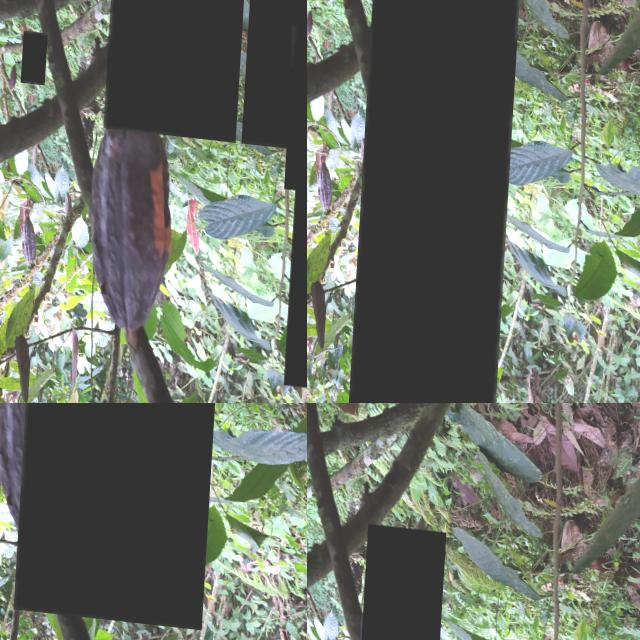Fitoftora: (355, 0, 523, 403), (358, 517, 448, 640), (244, 0, 307, 140), (287, 15, 307, 186)
Monilia: (19, 403, 230, 619)
Sana: (105, 0, 248, 133), (23, 27, 49, 81)
